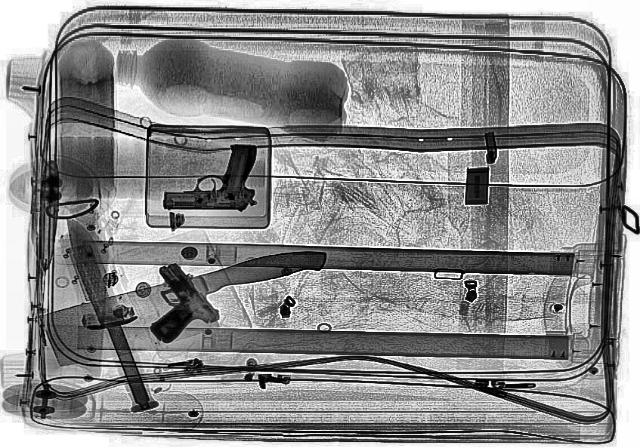Gun: (114, 260, 228, 344), (160, 142, 258, 212)
Knife: (27, 242, 353, 370), (55, 217, 159, 407), (26, 174, 62, 379)
